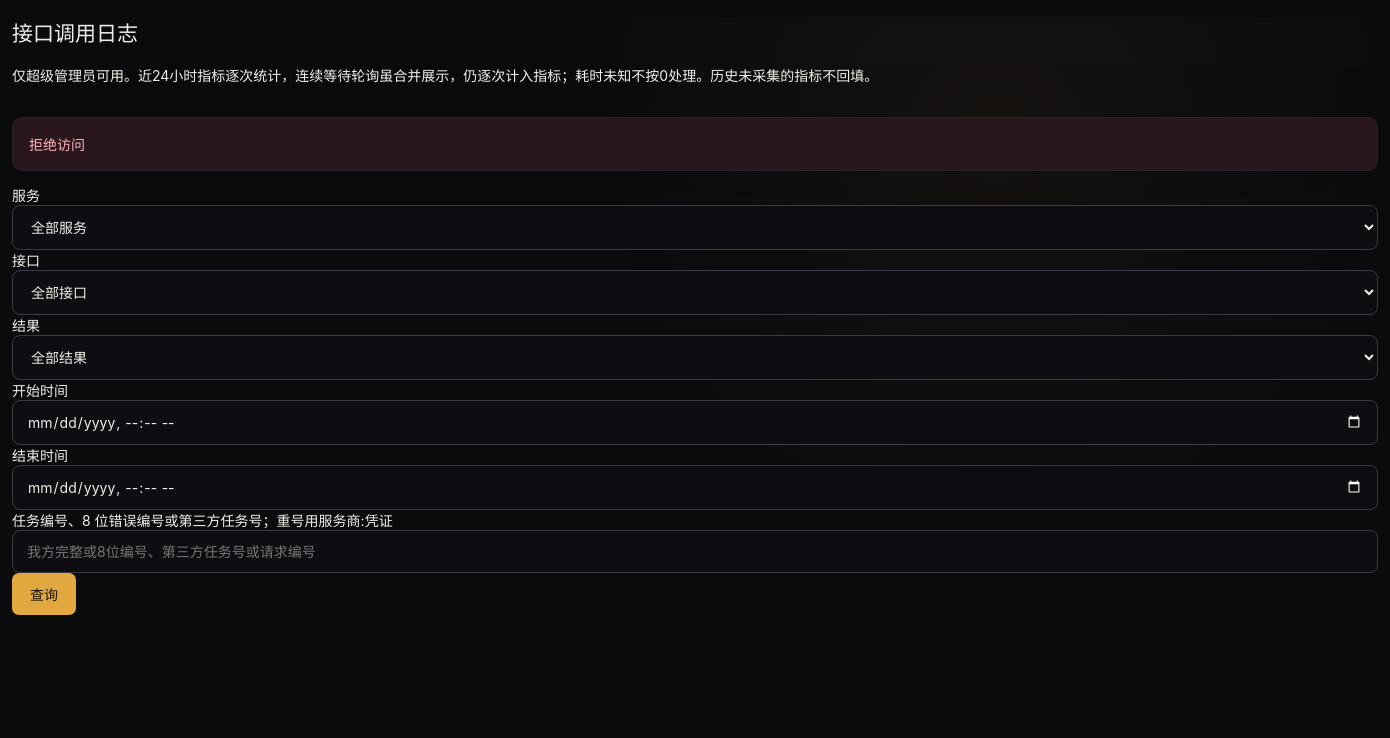
Scenario: 查询失败明确显示，可重新查询恢复
Expected: the text "拒绝访问" is shown, [12,117,1378,171]
Step 1. Click the button "查询" → click(44, 594), box [12,573,76,615]
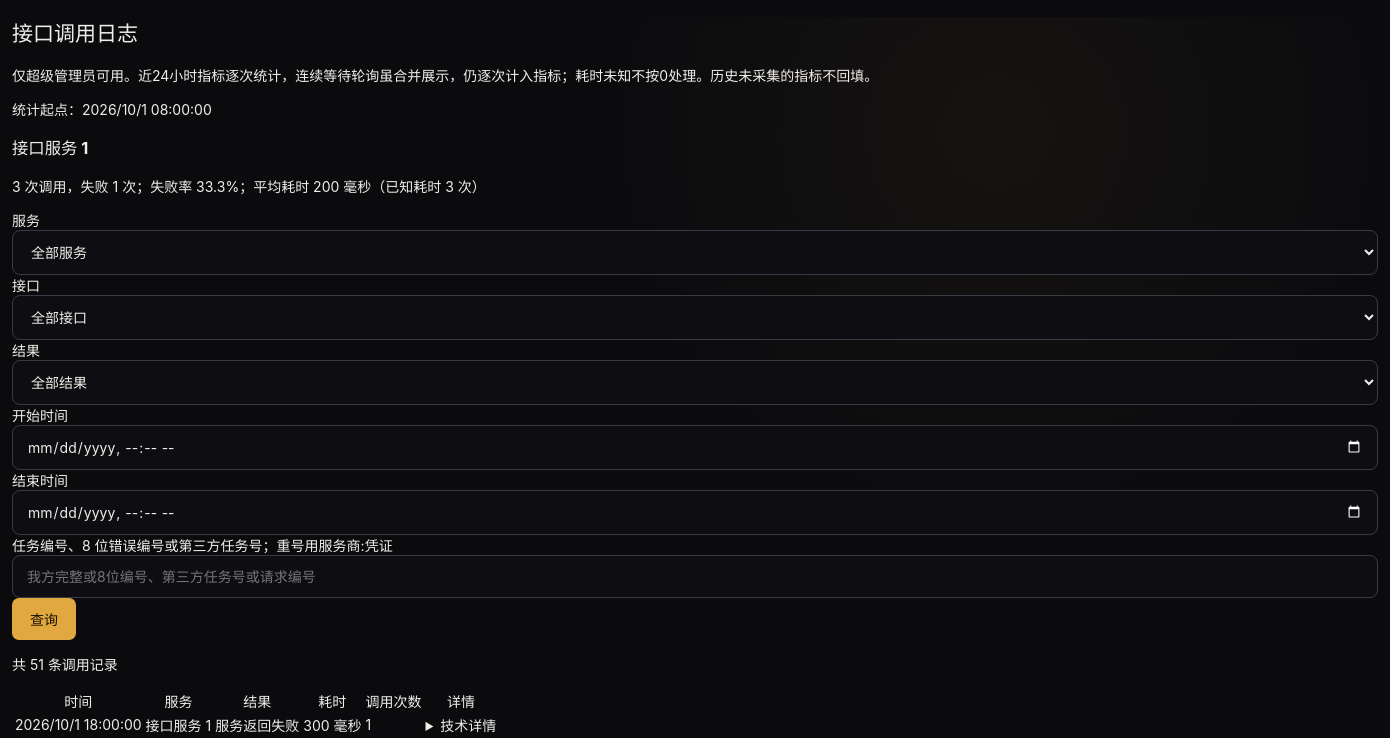
Expected: the text "共 51 条调用记录" is shown, [12,656,118,673]
